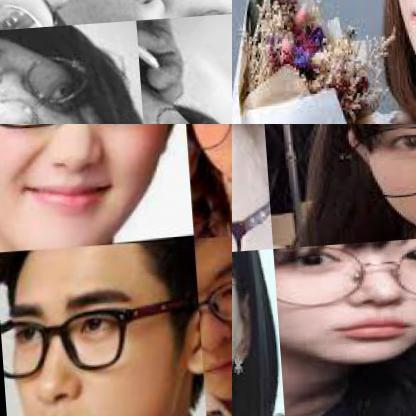Glasses: (0, 281, 191, 390), (194, 232, 231, 349), (0, 124, 187, 144)
glasses: (0, 29, 118, 123), (274, 240, 415, 313), (326, 124, 415, 203), (141, 86, 231, 123), (0, 0, 81, 35)
